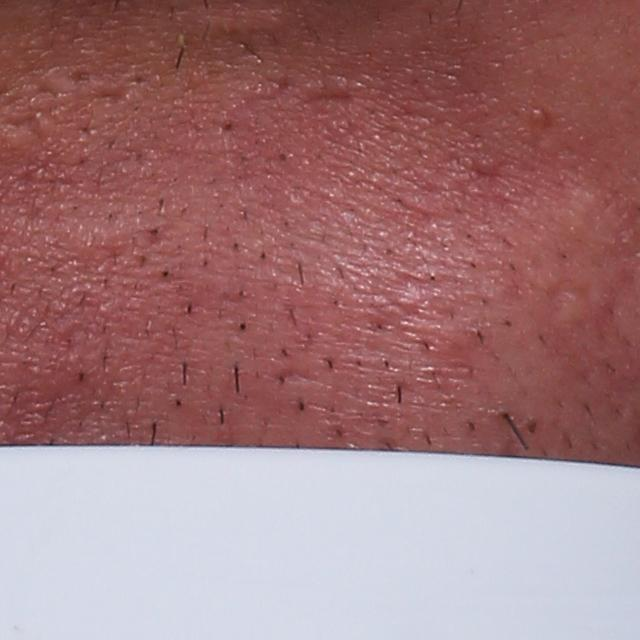comedo: (268, 145, 292, 166), (156, 262, 175, 285)
hypertrophic_scar: (545, 181, 608, 255), (260, 69, 362, 114), (549, 283, 618, 326)
